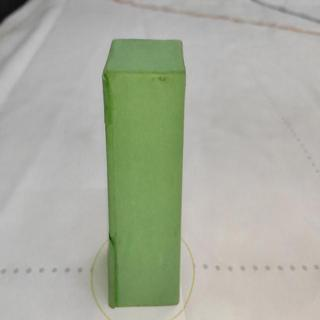greenbox: (101, 35, 189, 311)
